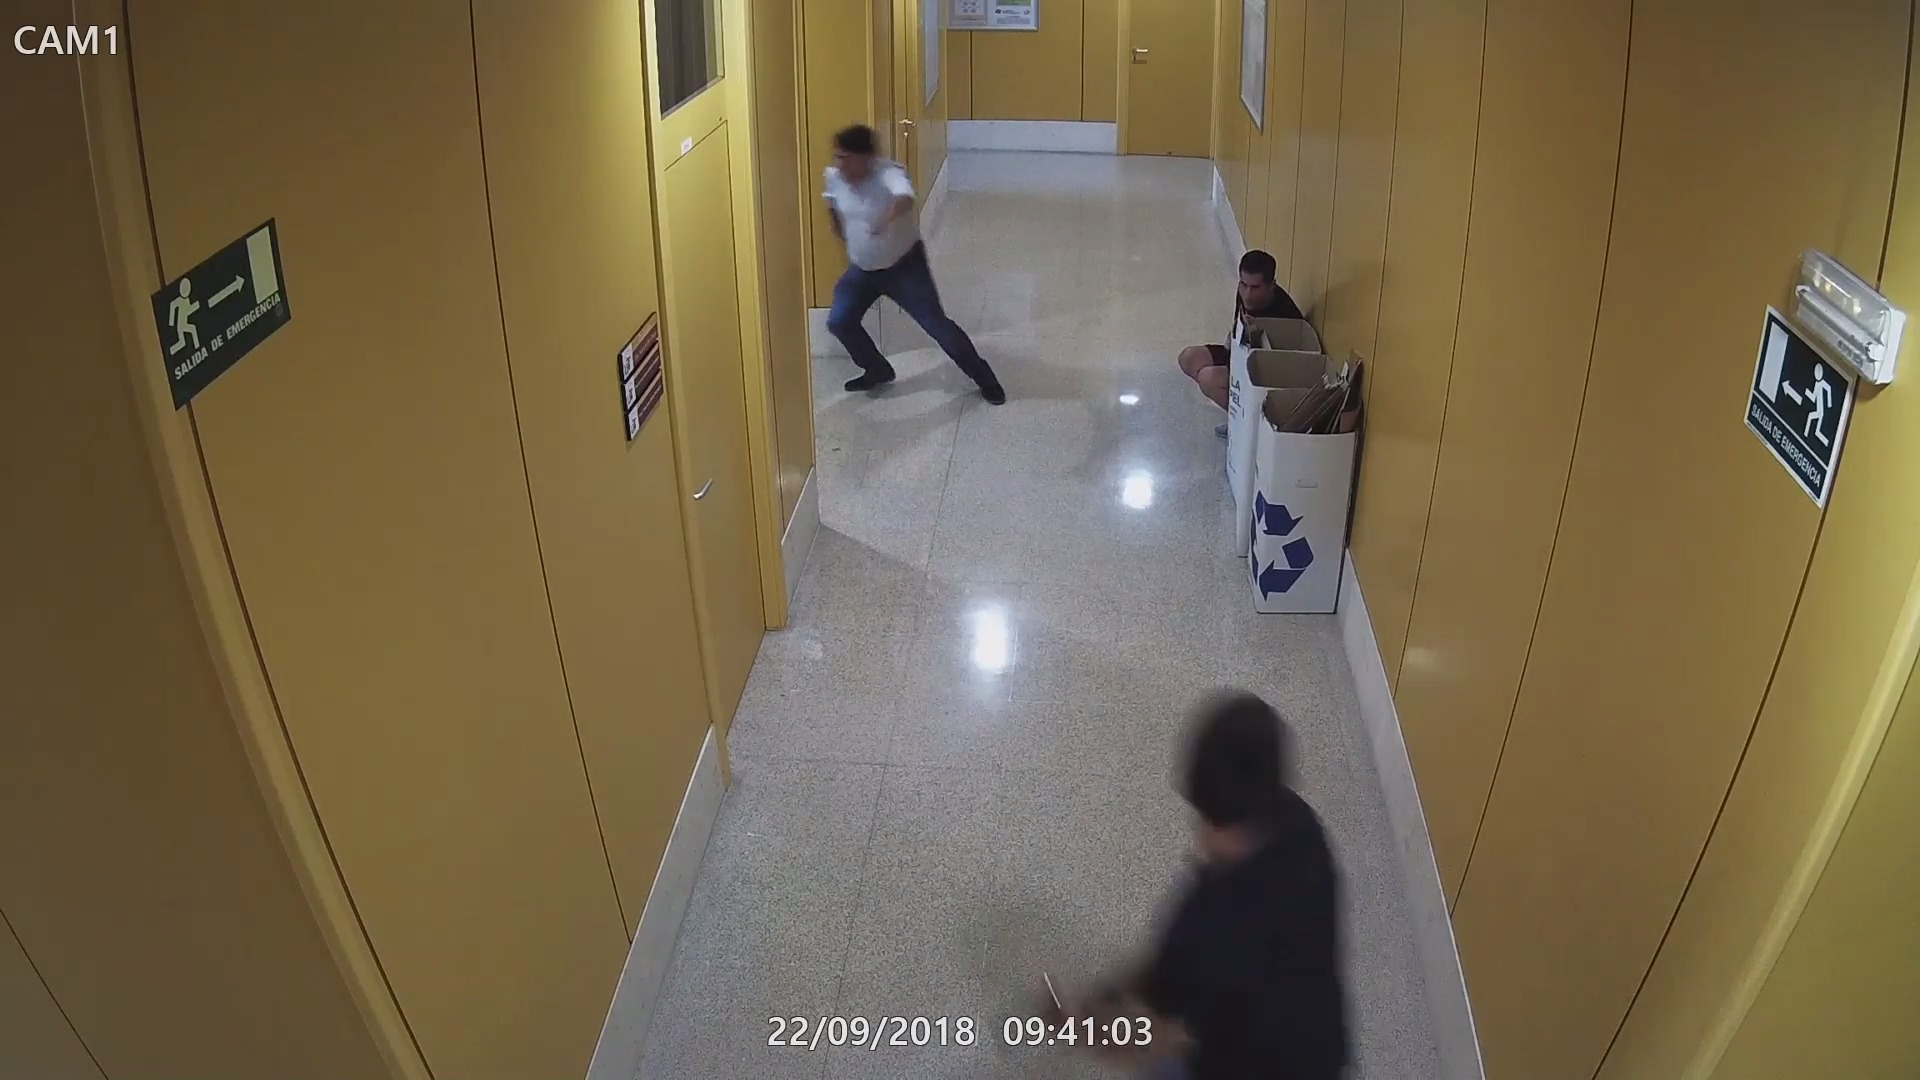pistol: (1010, 945, 1080, 1019)
